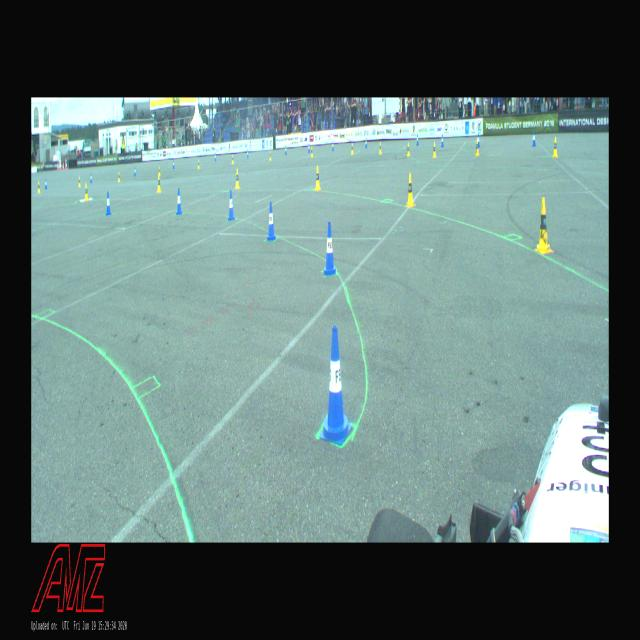blue_cone: (320, 326, 352, 444), (324, 222, 336, 274), (266, 202, 276, 240), (227, 190, 235, 220), (105, 191, 112, 215), (176, 188, 182, 214), (532, 130, 536, 146), (477, 134, 480, 148), (441, 134, 444, 146), (172, 161, 175, 169), (214, 153, 217, 161), (416, 134, 418, 146), (45, 178, 47, 188), (285, 146, 287, 156), (90, 173, 92, 183), (134, 166, 136, 176), (365, 138, 367, 148), (332, 141, 334, 150), (308, 144, 310, 152), (247, 150, 249, 158)
yellow_cone: (534, 198, 552, 255), (406, 173, 414, 206), (315, 166, 321, 190), (552, 136, 558, 158), (235, 168, 240, 188), (432, 142, 437, 158), (475, 139, 479, 157), (406, 142, 411, 156), (157, 175, 161, 192), (85, 182, 88, 200), (379, 142, 382, 154), (38, 181, 40, 193), (311, 146, 313, 157), (78, 176, 80, 187), (118, 172, 120, 182), (198, 159, 200, 169), (232, 154, 234, 164), (352, 144, 354, 154), (158, 166, 160, 176), (270, 150, 272, 160)
